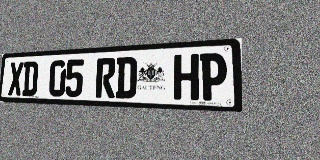0: (49, 60, 66, 97)
5: (65, 59, 84, 97)
D: (115, 57, 137, 99), (22, 61, 38, 96)
H: (173, 54, 199, 100)
P: (200, 53, 227, 101)
R: (95, 58, 116, 98)
X: (8, 62, 24, 96)
